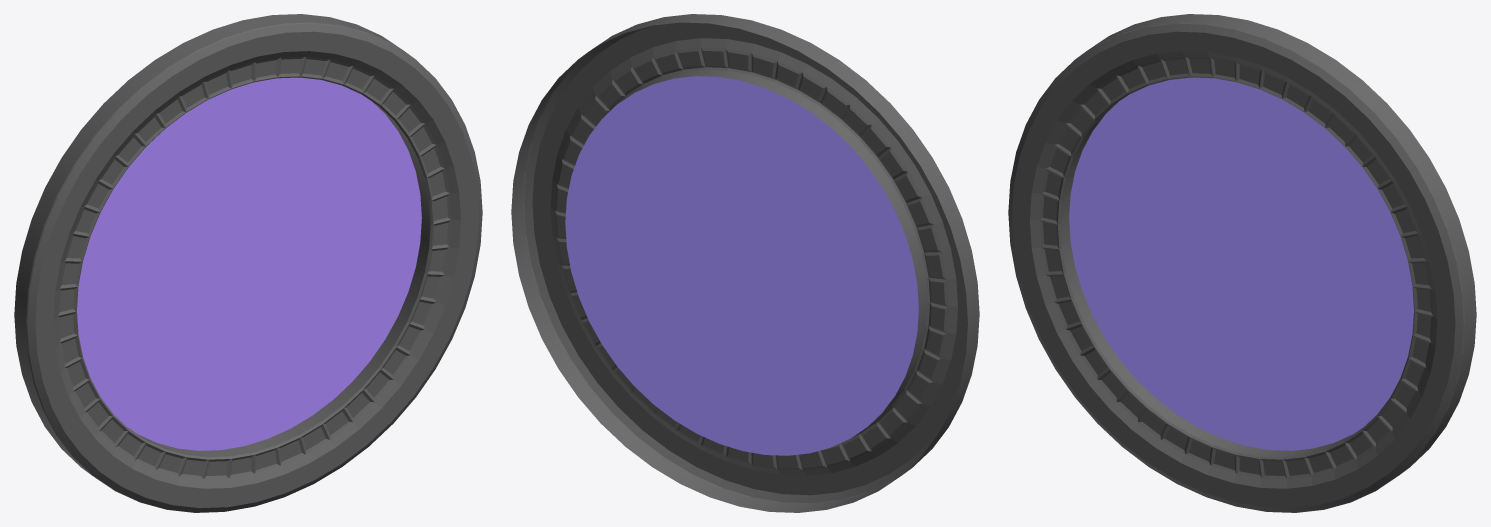
File: portal_mesh_01.fbx
3 views of the same model, side by side, from view 1: azimuth 30°, elevation 25°; view 2: azimuth 150°, elevation 25°; view 3: azimuth 330°, elevation 25° (orthographic).
Parts seen in each view (by area): view 1: portal_mesh; view 2: portal_mesh; view 3: portal_mesh.
Part boxes in pixels (x1,y1,x2,y2): portal_mesh: (14, 14, 482, 512); portal_mesh: (511, 14, 979, 512); portal_mesh: (1008, 14, 1476, 512).
Bounding box in the file's own units: 2039 × 2039 × 113.
